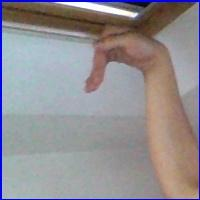del: (81, 25, 169, 102)
